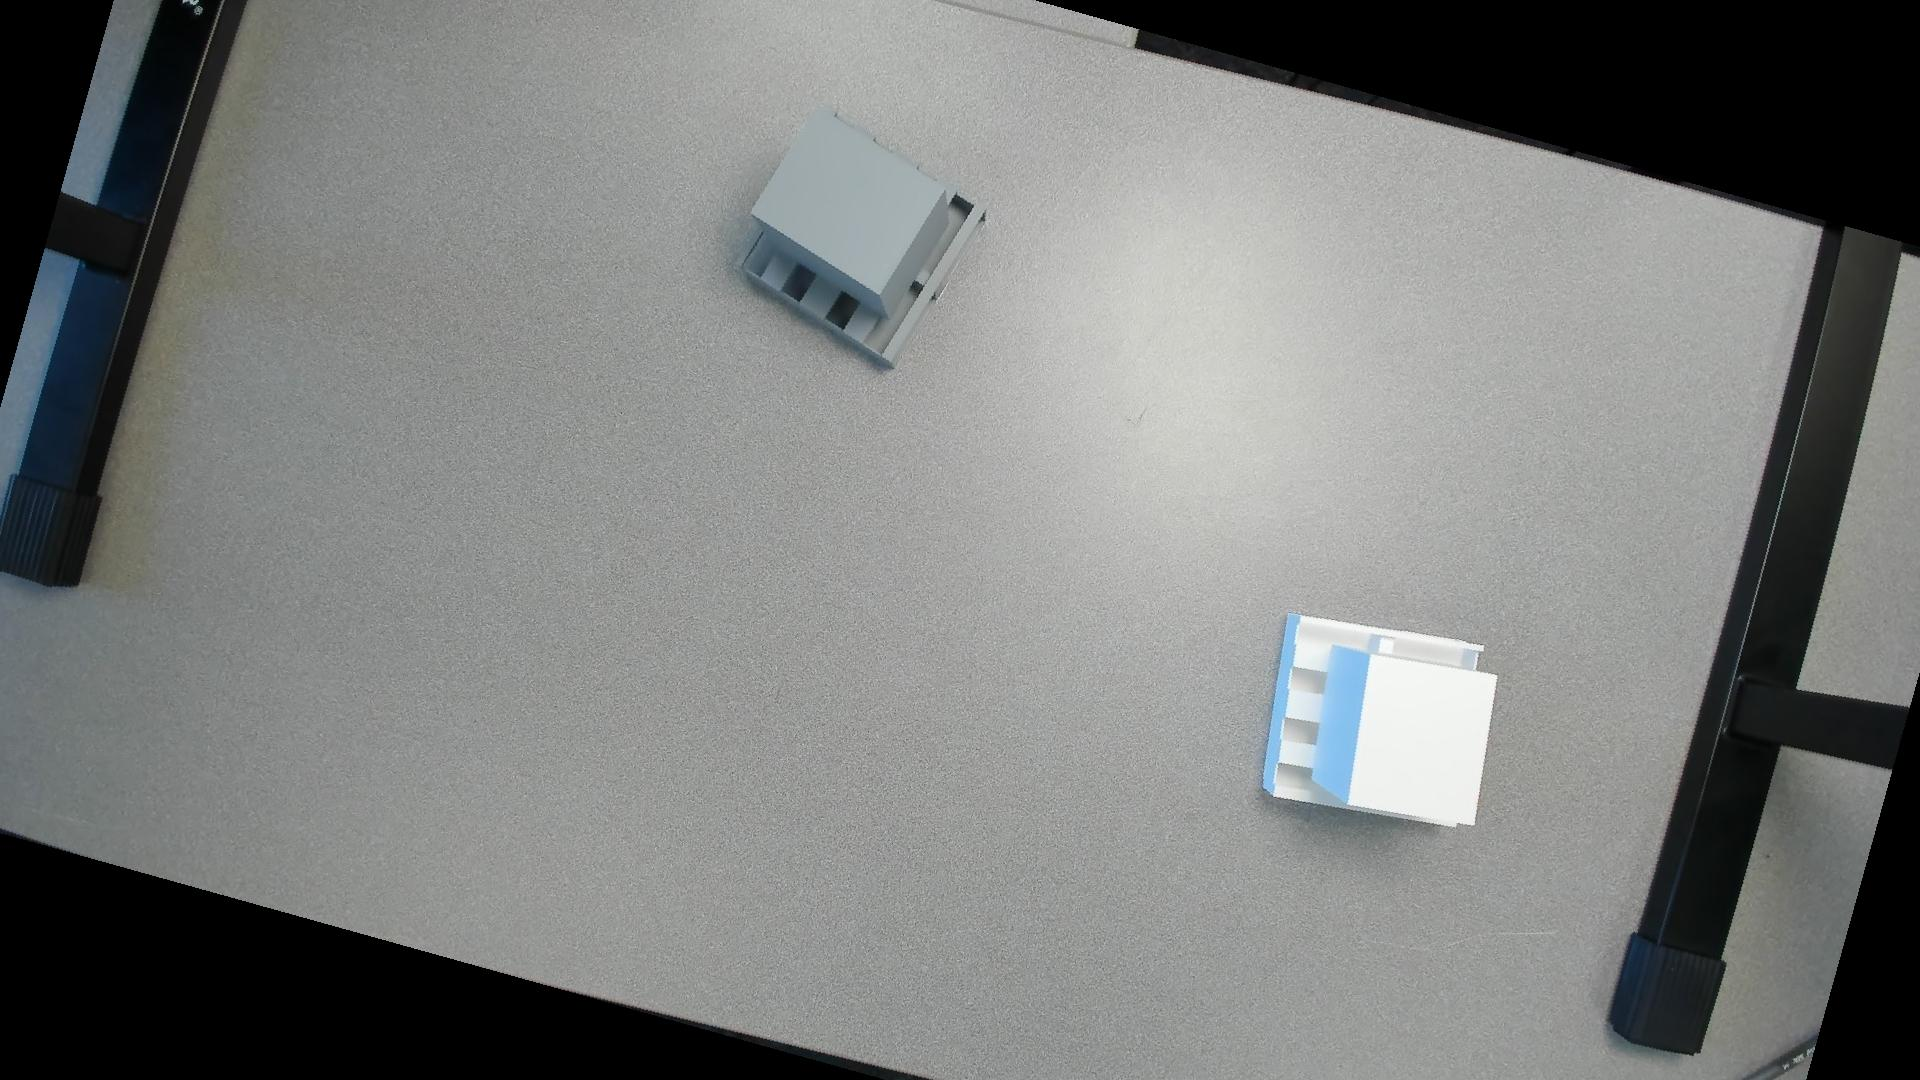grey pallet: (736, 100, 1000, 386)
white pallet: (1251, 609, 1503, 851)
